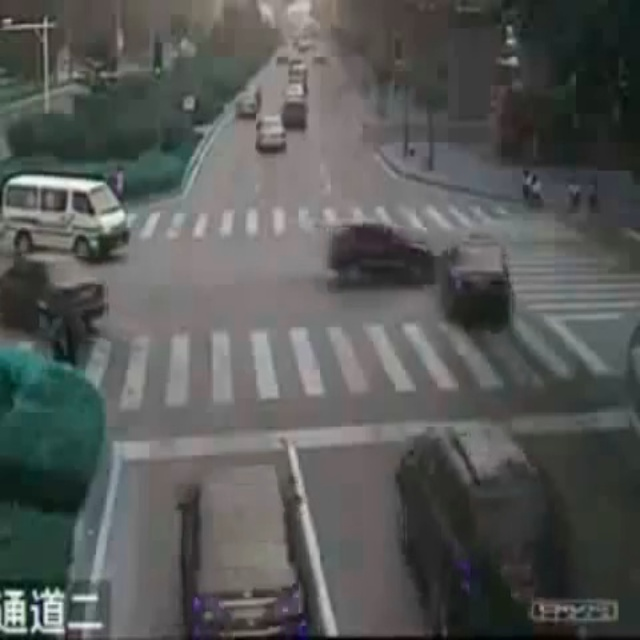acc: (324, 214, 515, 330)
